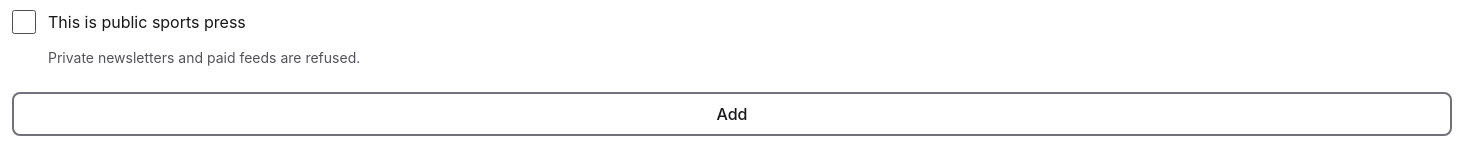
Test: Checkbox › [IHM-62] is named by the words beside it, which a tap also checks, and described by its hint
Click the text "This is public sports press": {"x": 147, "y": 22} left=48, top=11, right=246, bottom=33
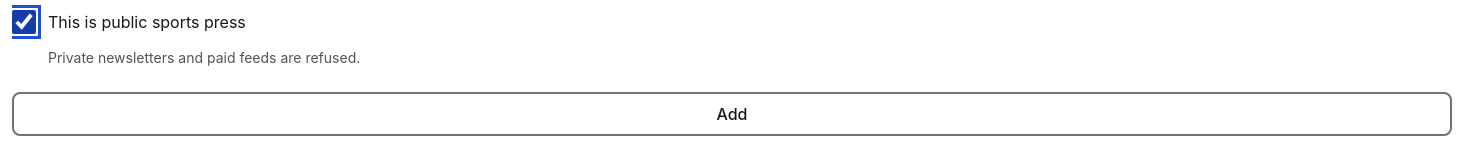
Now the checkbox labelled "This is public sports press" is checked, box left=12, top=10, right=36, bottom=34
